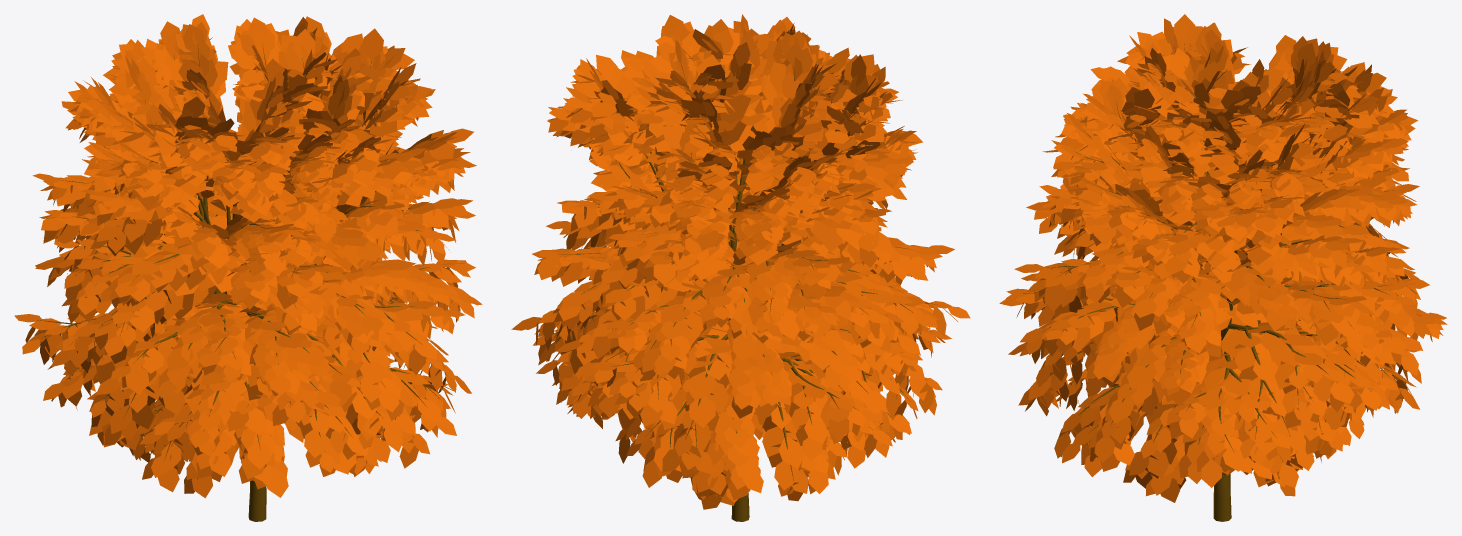
Rendered from orange_maple_tree(taller).fbx.
3 renders of one model, left to right at view 1: azimuth 30°, elevation 25°; view 2: azimuth 150°, elevation 25°; view 3: azimuth 270°, elevation 25°, orthographic. The views are drawn at different scales.
Parts seen in each view (by area): view 1: leaves, tree; view 2: leaves, tree; view 3: leaves, tree.
Boxes of the visible parts, x1,y1,x2,y2 form: leaves: [14, 14, 482, 498]; tree: [37, 44, 448, 521]; leaves: [511, 14, 970, 509]; tree: [539, 50, 939, 521]; leaves: [999, 14, 1447, 502]; tree: [1023, 43, 1421, 521].
Bounding box in the file's own units: 178 × 213 × 185.
